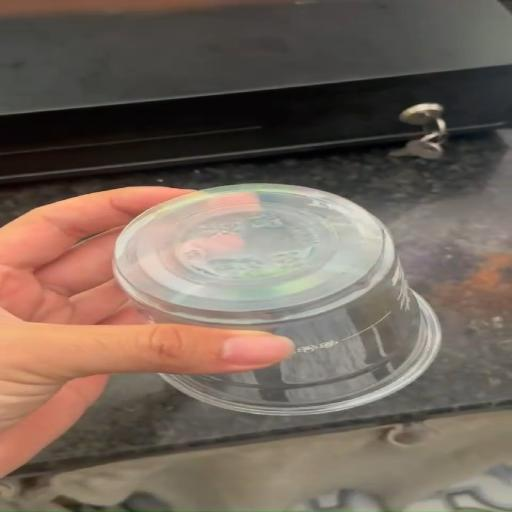ly_nhua: (113, 183, 439, 415)
